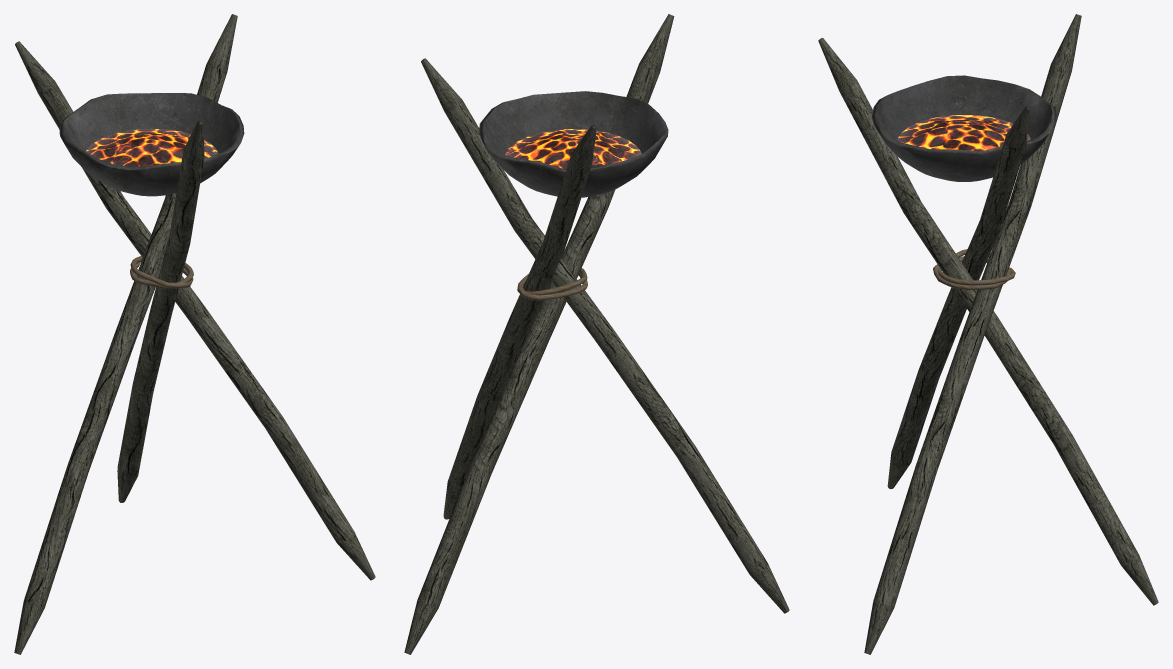
The model's file is eternalfire.glb.
3 renders of one model, left to right at view 1: azimuth 30°, elevation 25°; view 2: azimuth 150°, elevation 25°; view 3: azimuth 270°, elevation 25°, orthographic. The views are drawn at different scales.
Parts seen in each view (by area): view 1: PrimitiveBrazier; view 2: PrimitiveBrazier; view 3: PrimitiveBrazier.
Boxes of the visible parts, x1,y1,x2,y2 form: PrimitiveBrazier: [14, 14, 375, 654]; PrimitiveBrazier: [404, 14, 789, 654]; PrimitiveBrazier: [818, 14, 1158, 654].
Bounding box in the file's own units: 85.02 × 122 × 72.05.
1 material, 1 textured.
